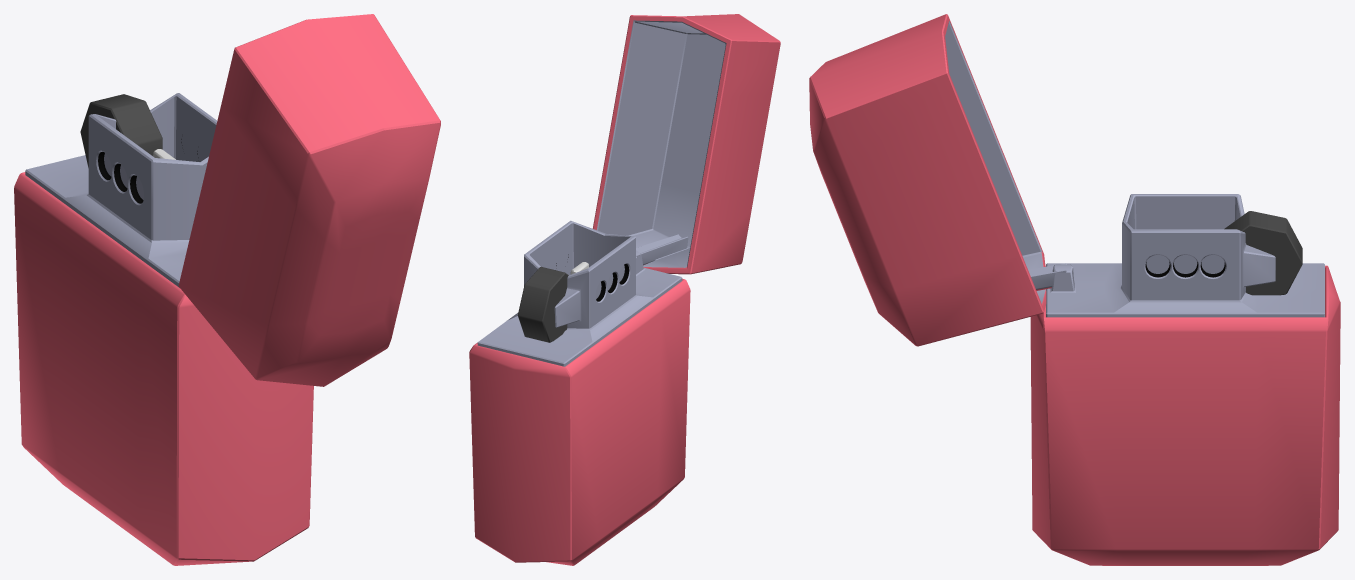
Rendered from LighterOpen.fbx.
3 views of the same model, side by side, from view 1: azimuth 30°, elevation 25°; view 2: azimuth 150°, elevation 25°; view 3: azimuth 270°, elevation 25° (orthographic). The views are drawn at different scales.
Parts seen in each view (by area): view 1: Lighter Lid Open.001; view 2: Lighter Lid Open.001; view 3: Lighter Lid Open.001.
Boxes of the visible parts, x1=… form: Lighter Lid Open.001: x1=14, y1=14, x2=440, y2=565; Lighter Lid Open.001: x1=469, y1=14, x2=780, y2=565; Lighter Lid Open.001: x1=809, y1=14, x2=1340, y2=565.
Size of the model in its own units: 93.09 by 382 by 355.
